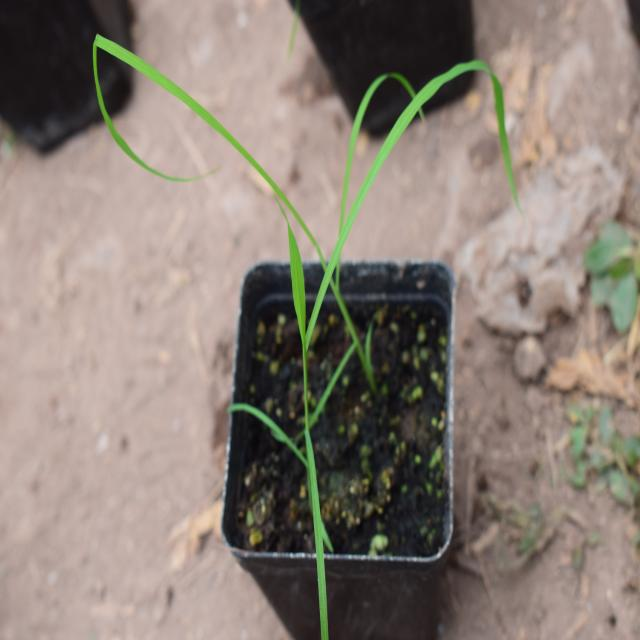barnyard_grass: (93, 32, 520, 420)
